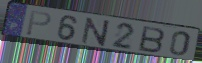0: (168, 30, 193, 58)
2: (110, 22, 136, 52)
6: (57, 15, 79, 41)
B: (138, 25, 167, 54)
N: (80, 17, 112, 48)
P: (25, 10, 53, 37)
